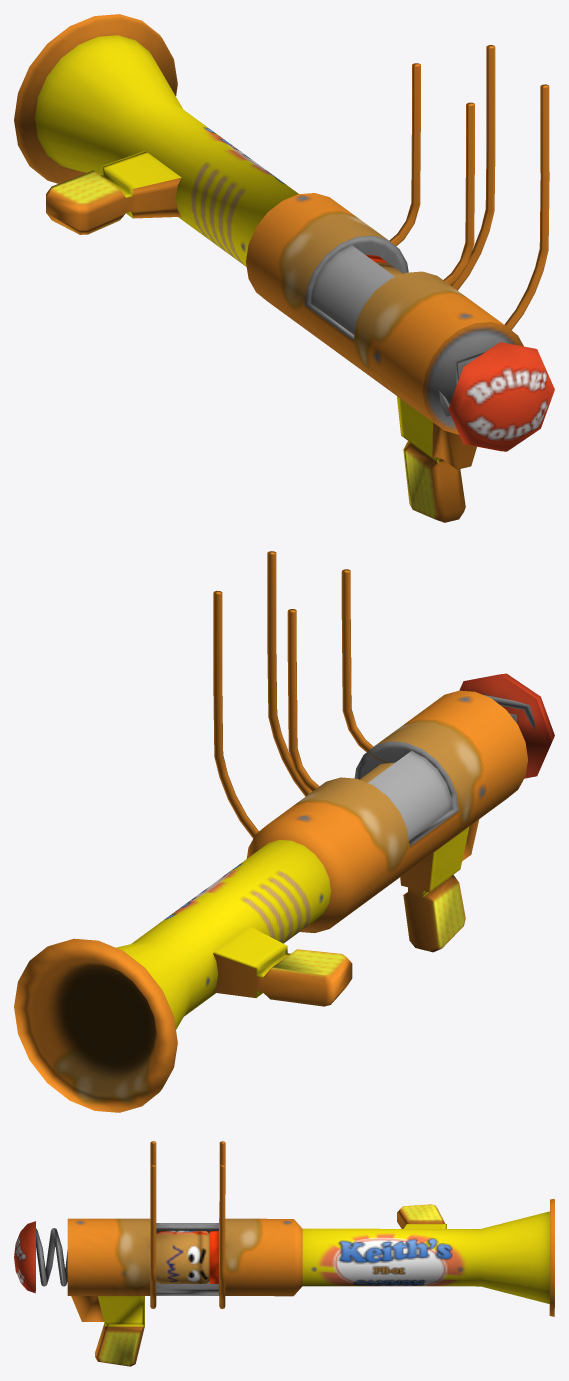
File: pblauncher_0jars.obj
3 renders of one model, top to bottom at view 1: azimuth 30°, elevation 25°; view 2: azimuth 150°, elevation 25°; view 3: azimuth 270°, elevation 25°, orthographic. The views are drawn at different scales.
Parts seen in each view (by area): view 1: pblauncher_0jars; view 2: pblauncher_0jars; view 3: pblauncher_0jars.
Part boxes in pixels (left/top/right/bottom): pblauncher_0jars: left=14, top=14, right=554, bottom=522; pblauncher_0jars: left=14, top=551, right=554, bottom=1112; pblauncher_0jars: left=14, top=1141, right=554, bottom=1366.
Size of the model in its own units: 3.02 by 3.83 by 7.78.
Materials: 1 (1 with a texture image).
